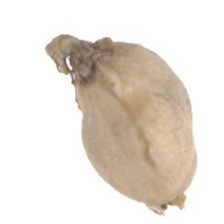L1: (44, 35, 106, 72), (143, 188, 193, 213)
L2: (44, 35, 197, 214)
